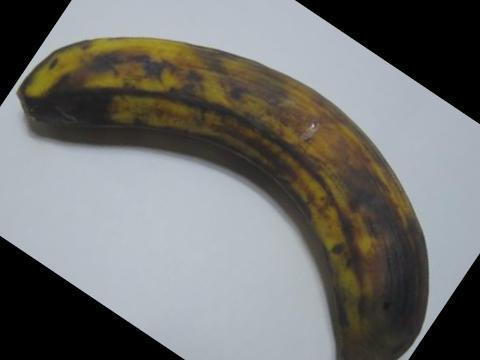overripe: (13, 36, 438, 359)
